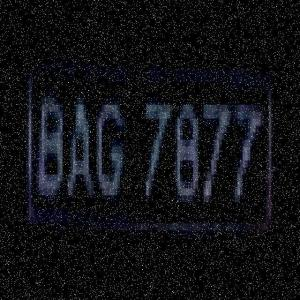Plate: (13, 37, 284, 250)
